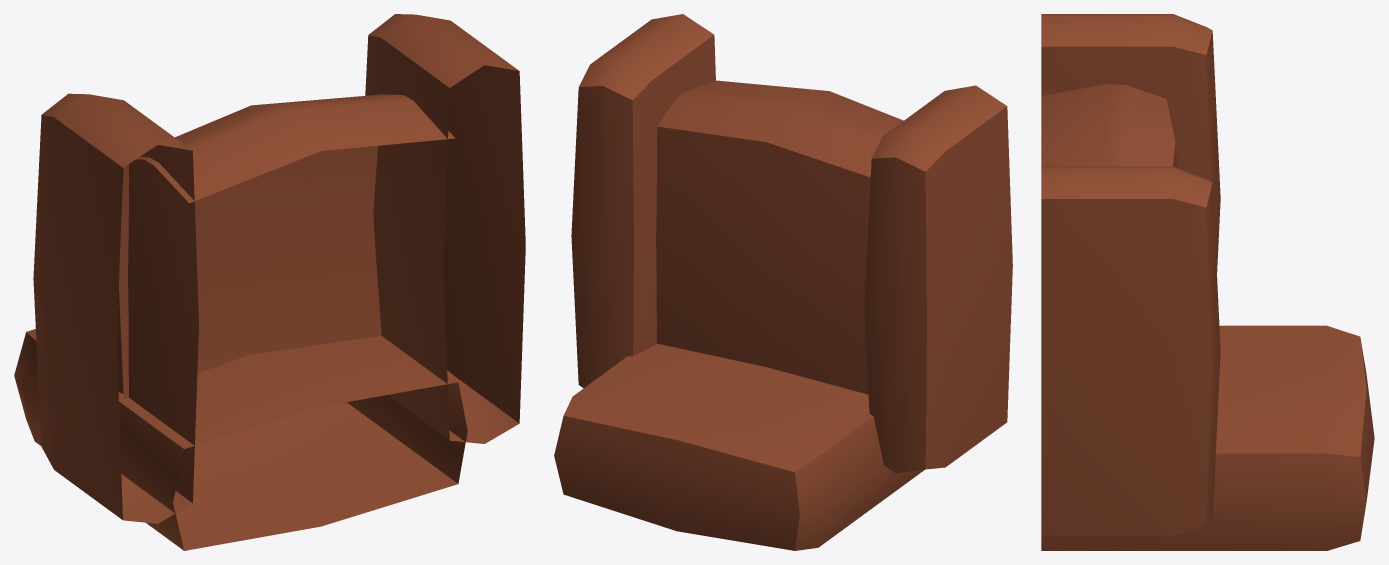
File: Sofa 01A.FBX
3 renders of one model, left to right at view 1: azimuth 30°, elevation 25°; view 2: azimuth 150°, elevation 25°; view 3: azimuth 270°, elevation 25°, orthographic. The views are drawn at different scales.
Parts seen in each view (by area): view 1: Sofa 01; view 2: Sofa 01; view 3: Sofa 01.
Part boxes in pixels (bbox=[...]): Sofa 01: bbox=[14, 14, 525, 550]; Sofa 01: bbox=[554, 14, 1012, 550]; Sofa 01: bbox=[1041, 14, 1374, 550].
Bounding box in the file's own units: 129 × 127 × 95.42.
